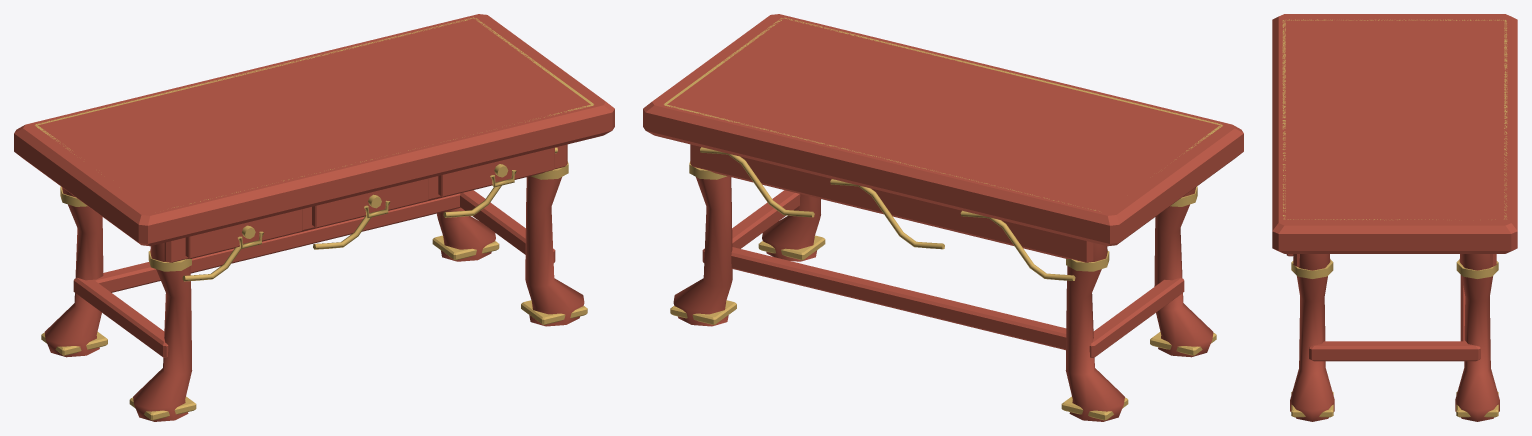
Rendered from scholar_desk.glb.
The picture shows the model from 3 angles, left to right: view 1: azimuth 30°, elevation 25°; view 2: azimuth 150°, elevation 25°; view 3: azimuth 270°, elevation 25°; orthographic projection. The views are drawn at different scales.
Parts seen in each view (by area): view 1: scholar_desk_Timber, scholar_desk_Gold; view 2: scholar_desk_Timber, scholar_desk_Gold; view 3: scholar_desk_Timber, scholar_desk_Gold.
Boxes of the visible parts, <box> form: scholar_desk_Timber: <box>14,14,614,421</box>; scholar_desk_Gold: <box>35,17,593,420</box>; scholar_desk_Timber: <box>643,14,1243,421</box>; scholar_desk_Gold: <box>664,17,1222,420</box>; scholar_desk_Timber: <box>1272,14,1517,421</box>; scholar_desk_Gold: <box>1282,19,1507,417</box>.
Size of the model in its own units: 2.3 by 1 by 1.1.
